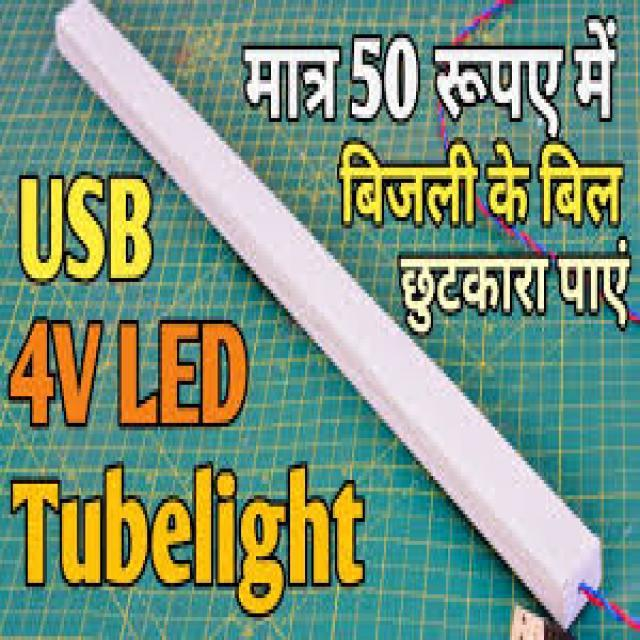tubelight_off: (38, 0, 628, 640)
